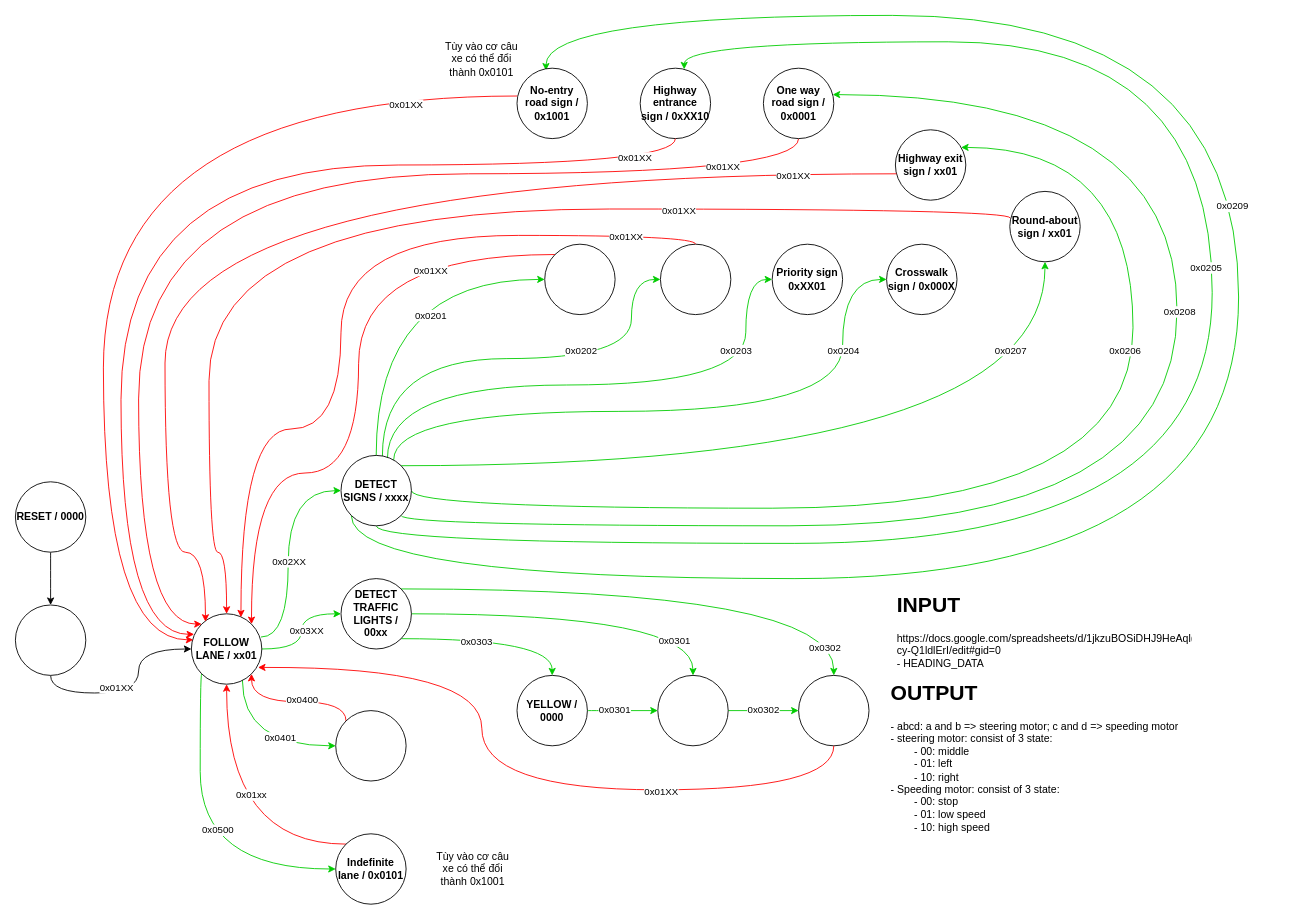
This 1298x920 diagram has some shape labels left out. The shapes that lost their labels are listed below. From the top down, each one's centre as x and y in pixels, then its label:
the point at 579,279: Stop sign / 0x0000
the point at 695,279: Parking sign / 0xXX01
the point at 50,639: START / XX01
the point at 692,710: RED / 0000
the point at 833,710: GREEN / 0001
the point at 370,745: DETECT BARRIER / 0000
